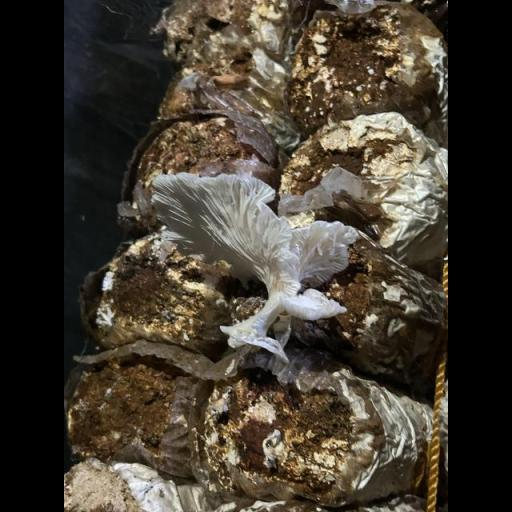White Oyster Mushroom: (134, 155, 354, 342)
